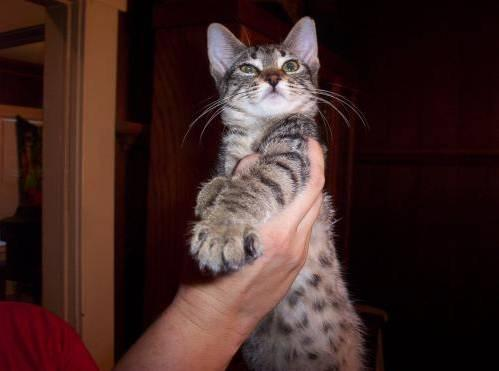cat: (188, 18, 320, 274), (241, 193, 363, 370)
